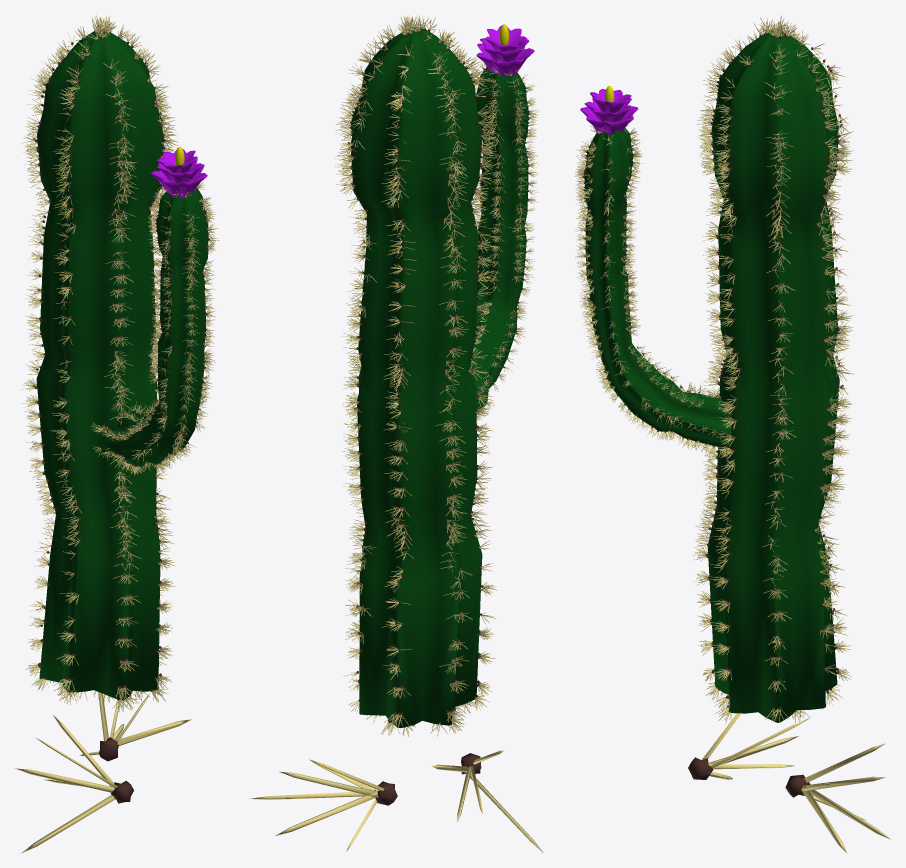
The model's file is cactusperfekt3.fbx.
3 views of the same model, side by side, from view 1: azimuth 30°, elevation 25°; view 2: azimuth 150°, elevation 25°; view 3: azimuth 270°, elevation 25° (orthographic). The views are drawn at different scales.
Visible parts, largest first — view 1: Cylinder, Cylinder.004, Cube.003, Cube.011, Cylinder.001, Cylinder.003, Cylinder.002; view 2: Cylinder, Cylinder.004, Cube.011, Cube.003, Cylinder.001, Cylinder.003; view 3: Cylinder, Cylinder.004, Cube.011, Cube.003, Cylinder.001.
Boxes of the visible parts, x1,y1,x2,y2 form: Cylinder: (36, 30, 164, 699); Cylinder.004: (102, 188, 208, 466); Cube.003: (15, 715, 133, 853); Cube.011: (79, 692, 191, 761); Cylinder.001: (151, 162, 207, 198); Cylinder.003: (156, 149, 196, 173); Cylinder.002: (157, 156, 203, 183); Cylinder: (350, 26, 482, 727); Cylinder.004: (469, 67, 528, 412); Cube.011: (249, 759, 397, 851); Cube.003: (432, 750, 543, 852); Cylinder.001: (476, 43, 534, 76); Cylinder.003: (485, 25, 527, 52); Cylinder: (707, 29, 839, 722); Cylinder.004: (584, 128, 731, 448); Cube.011: (785, 743, 890, 852); Cube.003: (688, 713, 809, 779); Cylinder.001: (580, 106, 638, 134).
Bounding box in the file's own units: 484 × 1613 × 573.
